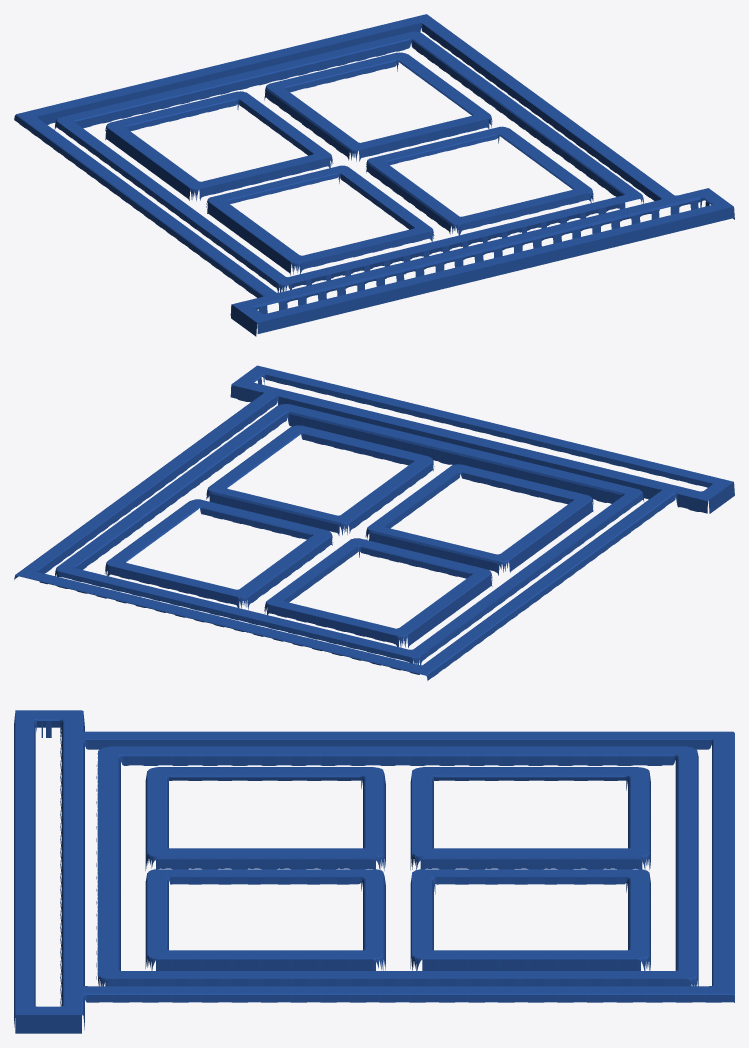
The model's file is window.glb.
The picture shows the model from 3 angles, top to bottom: view 1: azimuth 30°, elevation 25°; view 2: azimuth 150°, elevation 25°; view 3: azimuth 270°, elevation 25°; orthographic projection. The views are drawn at different scales.
Visible parts, largest first — view 1: Plane; view 2: Plane; view 3: Plane.
Boxes of the visible parts, left/top/right/bottom form: Plane: left=14, top=14, right=734, bottom=336; Plane: left=14, top=365, right=734, bottom=680; Plane: left=14, top=710, right=734, bottom=1033.
Size of the model in its own units: 461 by 12.64 by 460.
